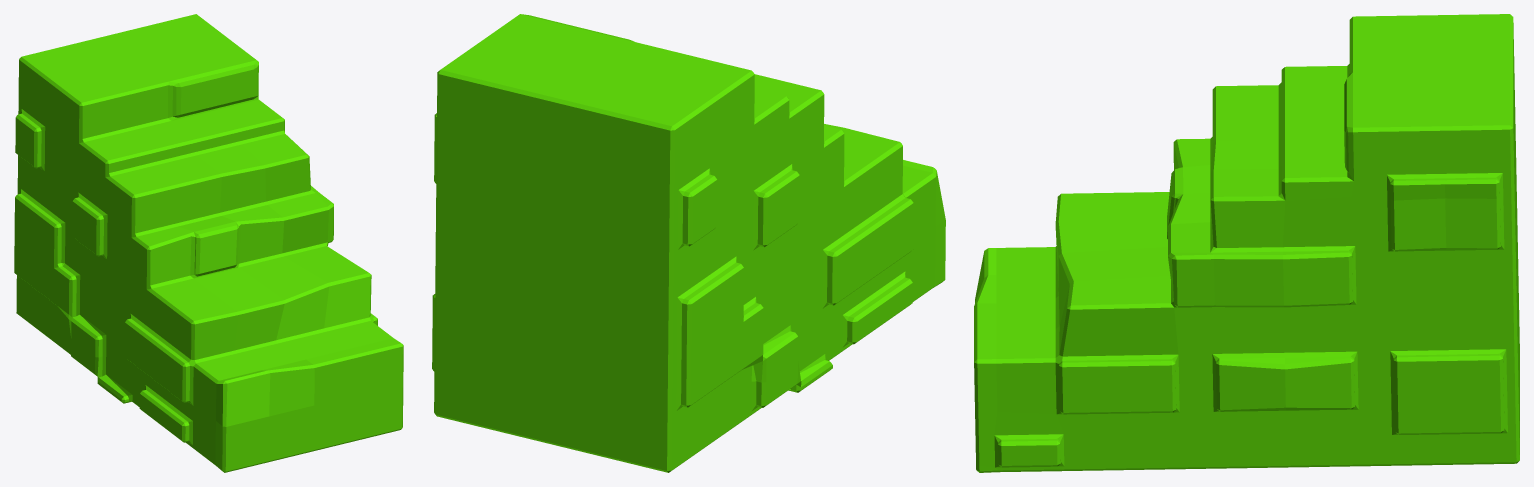
Rendered from SM_Castle_Wall1.fbx.
3 views of the same model, side by side, from view 1: azimuth 30°, elevation 25°; view 2: azimuth 150°, elevation 25°; view 3: azimuth 270°, elevation 25° (orthographic). The views are drawn at different scales.
Visible parts, largest first — view 1: muro 1.016; view 2: muro 1.016; view 3: muro 1.016.
Boxes of the visible parts, bbox=[...] form: muro 1.016: bbox=[14, 14, 403, 472]; muro 1.016: bbox=[432, 14, 945, 472]; muro 1.016: bbox=[974, 14, 1519, 472].
Bounding box in the file's own units: 215 × 276 × 393.
